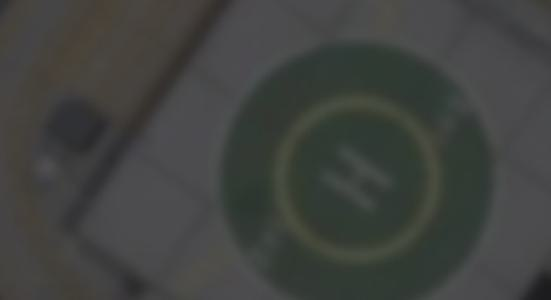Apron: (269, 82, 446, 270)
